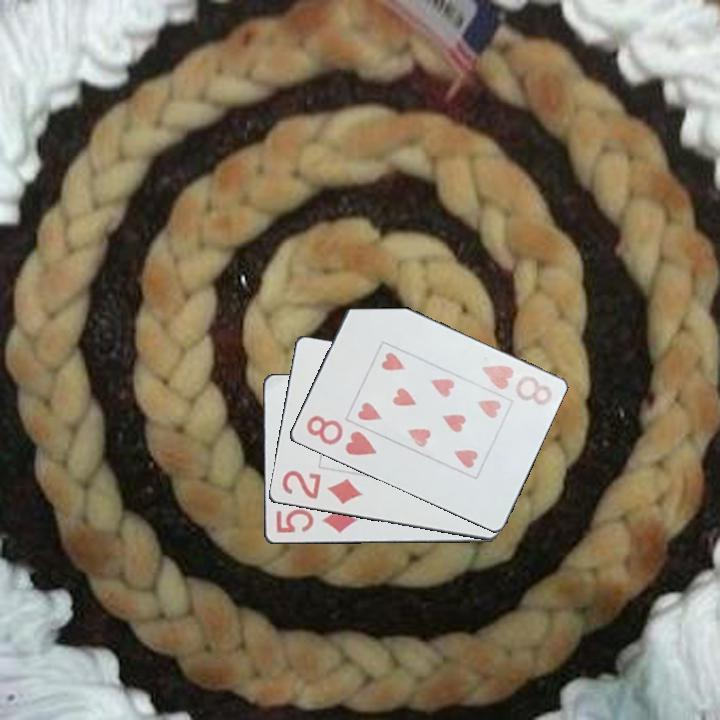2d: (278, 467, 365, 507)
5d: (272, 503, 360, 536)
8h: (478, 361, 555, 409), (302, 412, 380, 459)
